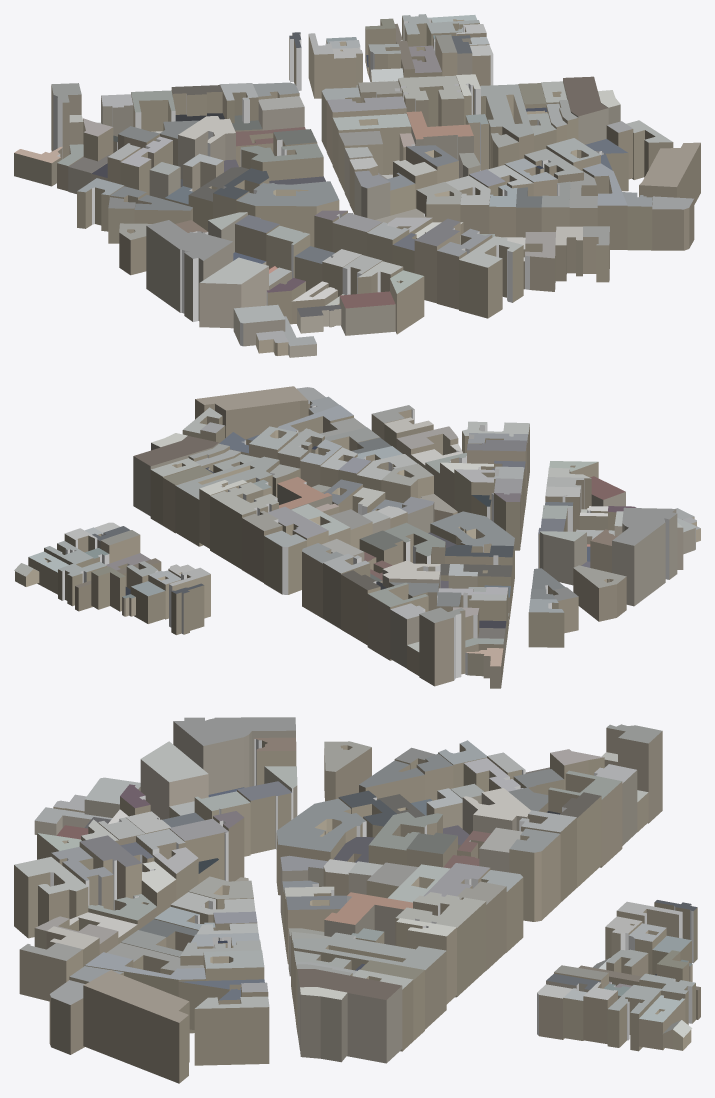
The picture shows the model from 3 angles, top to bottom: view 1: azimuth 30°, elevation 25°; view 2: azimuth 150°, elevation 25°; view 3: azimuth 270°, elevation 25°; orthographic projection. The views are drawn at different scales.
Visible parts, largest first — view 1: tuile; view 2: tuile; view 3: tuile.
Boxes of the visible parts, x1,y1,x2,y2 form: tuile: (14, 14, 700, 357); tuile: (14, 386, 700, 688); tuile: (14, 717, 700, 1083).
Bounding box in the file's own units: 271 × 42.11 × 261.
